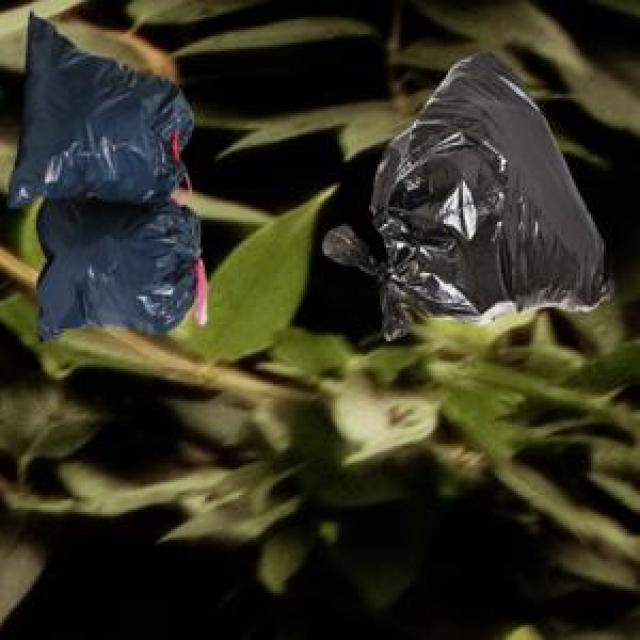waste: (322, 55, 611, 340), (8, 15, 200, 339)
